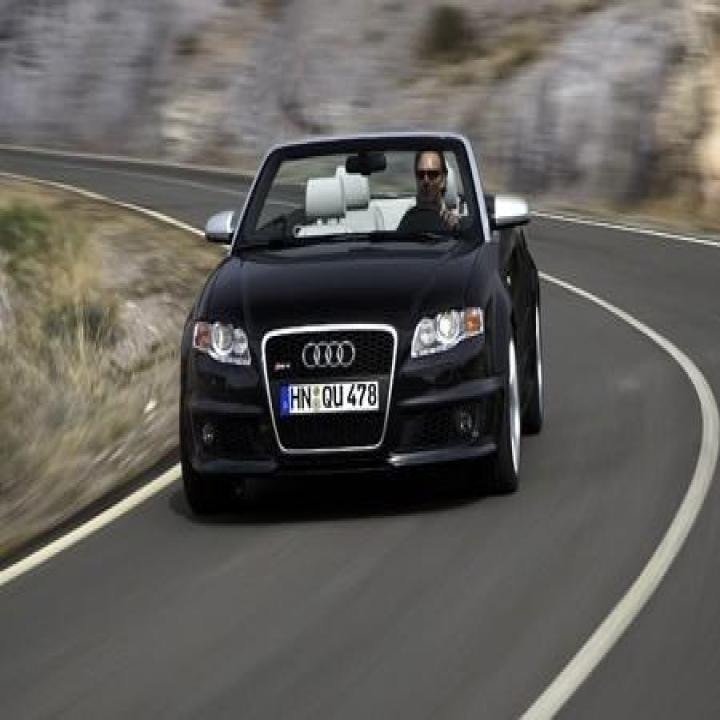car: (178, 130, 544, 514)
plat: (289, 380, 378, 414)
